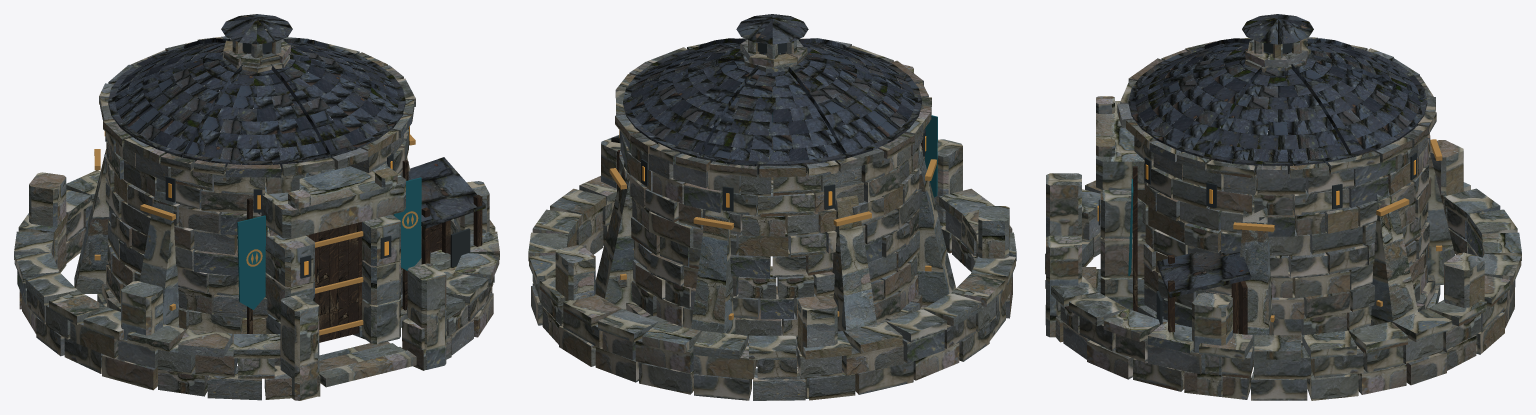
File: castro_hold.glb
3 views of the same model, side by side, from view 1: azimuth 30°, elevation 25°; view 2: azimuth 150°, elevation 25°; view 3: azimuth 270°, elevation 25° (orthographic).
Parts seen in each view (by area): view 1: R56_Granite.004, R56_Slate.004, R56_Accent.004, R56_Timber.004; view 2: R56_Granite.004, R56_Slate.004, R56_Accent.004; view 3: R56_Granite.004, R56_Slate.004, R56_Accent.004, R56_Timber.004.
Boxes of the visible parts, box(x1,y1,x2,y2) form: R56_Granite.004: box(14, 36, 499, 400); R56_Slate.004: box(108, 14, 485, 228); R56_Accent.004: box(94, 42, 470, 335); R56_Timber.004: box(247, 160, 482, 342); R56_Granite.004: box(528, 38, 1016, 400); R56_Slate.004: box(611, 14, 921, 174); R56_Accent.004: box(609, 43, 937, 320); R56_Granite.004: box(1045, 37, 1521, 400); R56_Slate.004: box(1128, 14, 1427, 297); R56_Accent.004: box(1097, 43, 1442, 325); R56_Timber.004: box(1133, 166, 1247, 334).
Bounding box in the file's own units: 10.25 × 6.53 × 10.04.
Materials: 4 (3 with a texture image).
